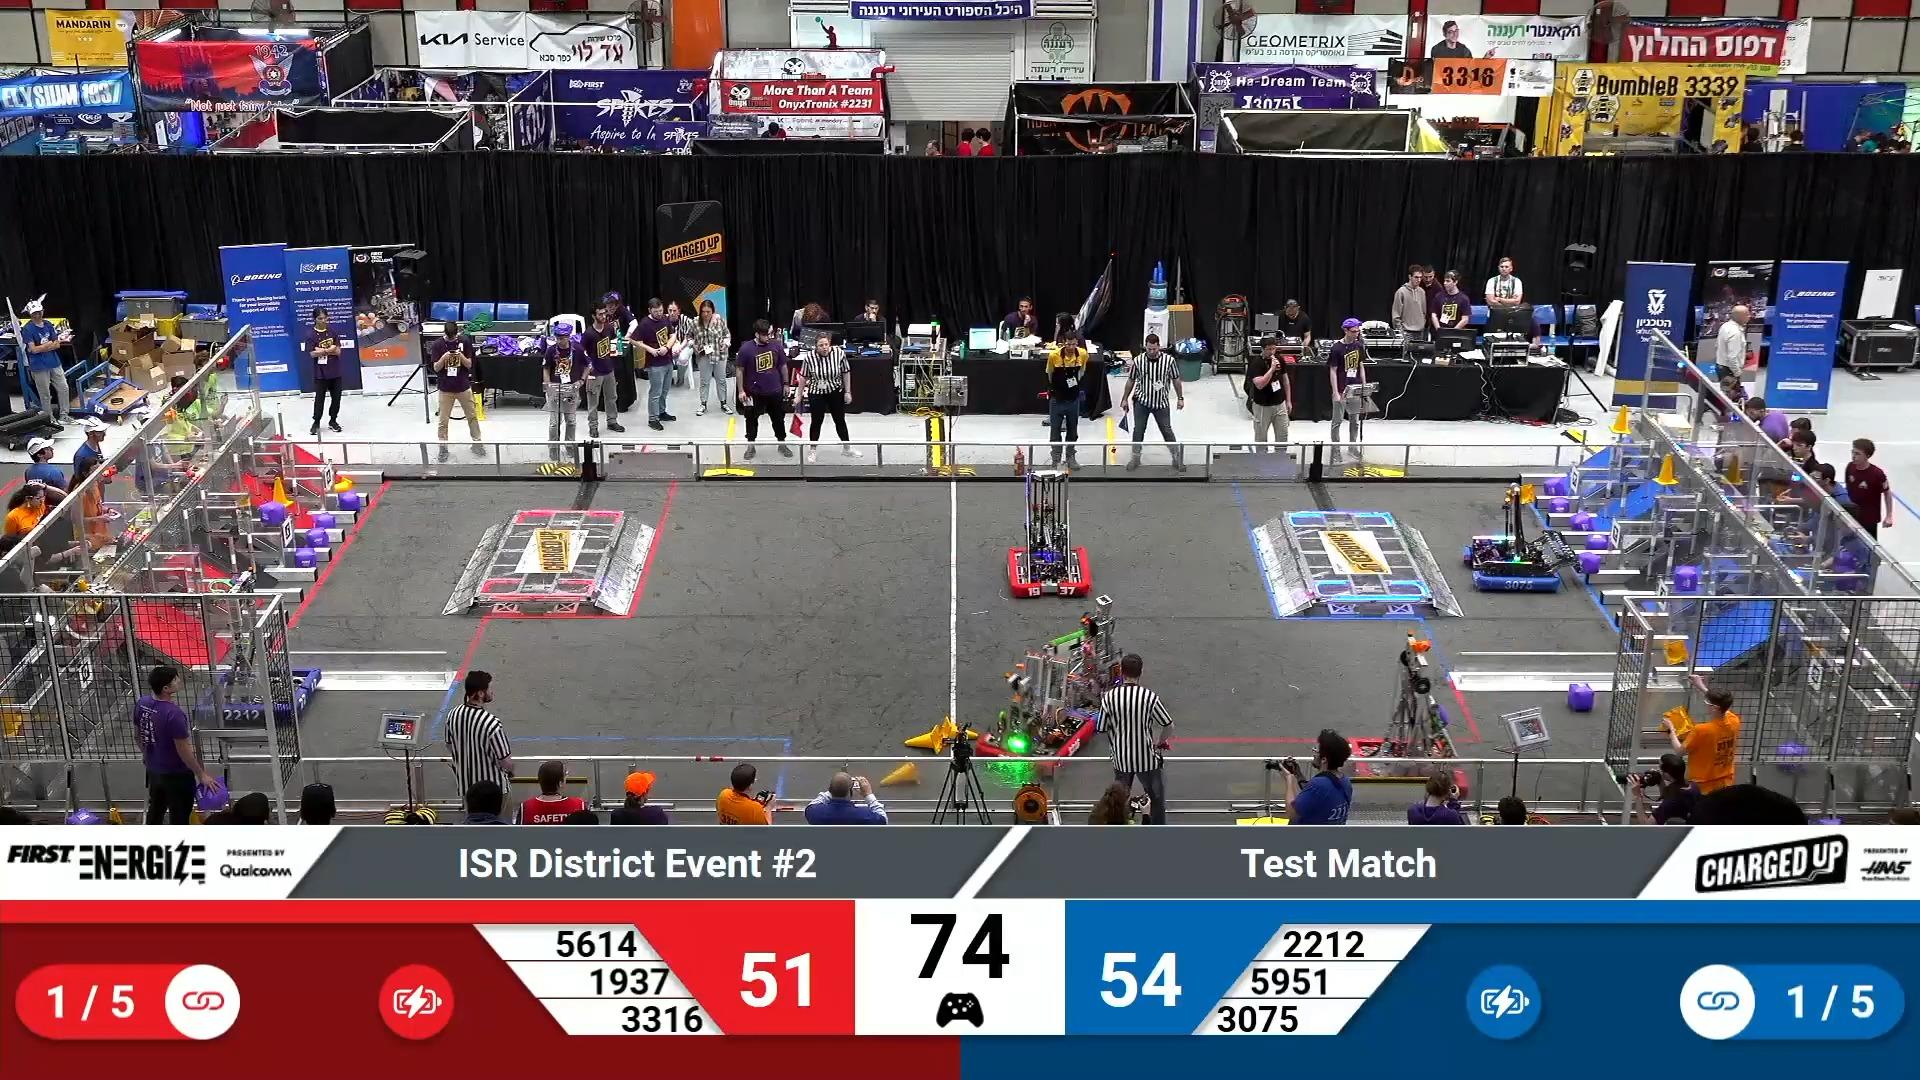robot: (1346, 633, 1470, 803), (982, 605, 1105, 766), (204, 566, 323, 723), (1025, 596, 1133, 727), (1465, 485, 1575, 591), (1005, 471, 1092, 597)
